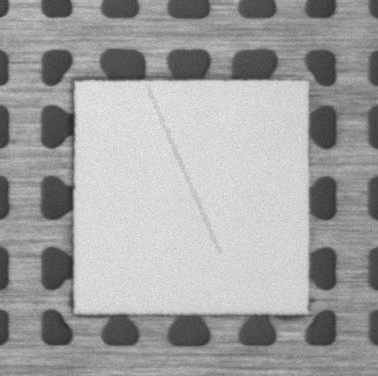DIE_CRACK: (148, 86, 221, 251)
